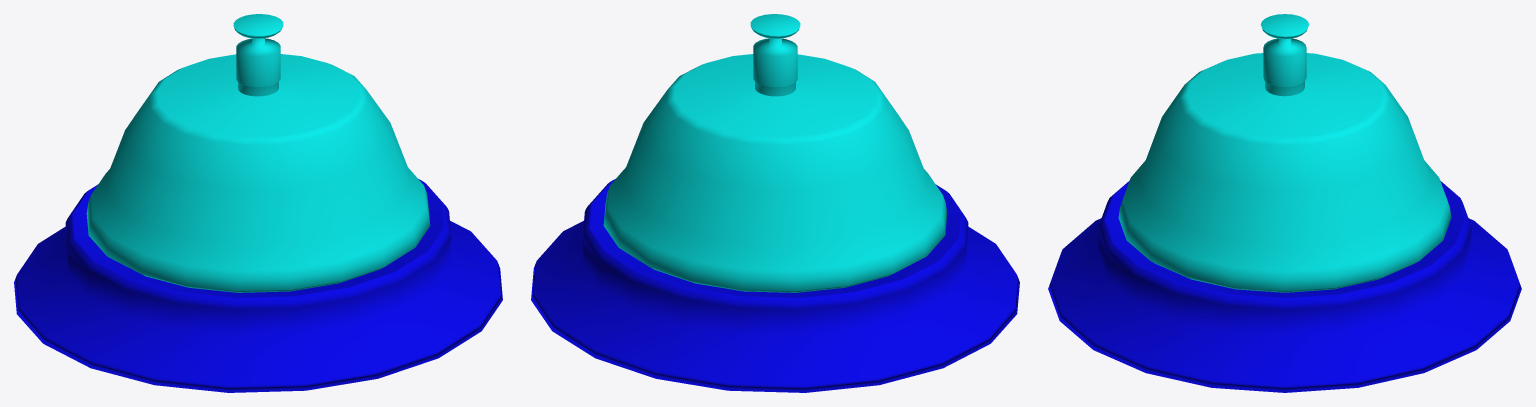
The model's file is Bell_Separated.fbx.
The picture shows the model from 3 angles, left to right: view 1: azimuth 30°, elevation 25°; view 2: azimuth 150°, elevation 25°; view 3: azimuth 270°, elevation 25°; orthographic projection.
Visible parts, largest first — view 1: polySurface3, polySurface2; view 2: polySurface3, polySurface2; view 3: polySurface3, polySurface2.
Boxes of the visible parts, x1,y1,x2,y2 form: polySurface3: (14,54,502,392); polySurface2: (233,14,283,96); polySurface3: (531,54,1019,392); polySurface2: (750,14,800,96); polySurface3: (1048,53,1521,392); polySurface2: (1260,14,1309,96).
Bounding box in the file's own units: 3.82 × 2.26 × 3.67.
